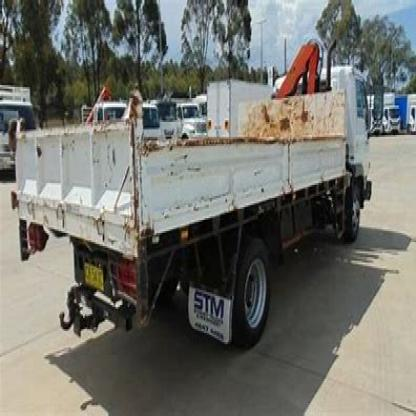dump_truck: (15, 40, 415, 361)
